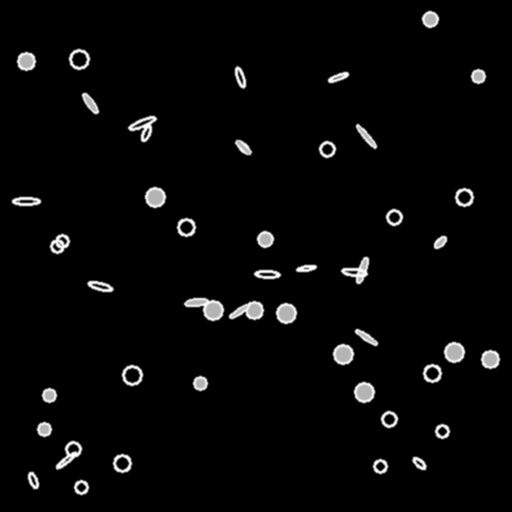pseudomonas: (127, 114, 157, 132), (355, 124, 377, 148), (354, 328, 378, 346), (81, 92, 99, 114), (55, 451, 77, 469), (355, 257, 369, 283), (228, 303, 250, 319), (234, 138, 252, 156), (87, 280, 113, 292), (327, 71, 349, 83), (341, 267, 367, 277), (411, 455, 427, 471), (234, 67, 246, 87), (184, 297, 208, 307), (27, 471, 39, 489), (140, 124, 152, 142), (433, 235, 447, 249), (255, 270, 279, 278), (296, 264, 316, 272), (13, 198, 39, 204)
synechocystis: (123, 366, 141, 384), (277, 304, 295, 322), (334, 345, 352, 363), (70, 50, 88, 68), (445, 343, 463, 361), (204, 301, 222, 319), (146, 188, 164, 206), (355, 383, 373, 401), (114, 455, 130, 471), (178, 219, 194, 235), (456, 189, 472, 205), (246, 302, 262, 318), (18, 53, 34, 69), (424, 365, 440, 381), (482, 351, 498, 367), (423, 12, 437, 26), (387, 210, 401, 224), (258, 232, 272, 246), (320, 142, 334, 156), (66, 442, 80, 456), (382, 412, 396, 426), (194, 377, 206, 389), (374, 460, 386, 472), (472, 70, 484, 82), (38, 423, 50, 435), (75, 481, 87, 493), (43, 389, 55, 401), (56, 235, 68, 247), (51, 240, 63, 252), (436, 425, 448, 437)
